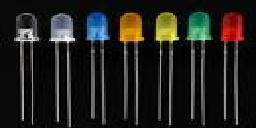LED: (8, 10, 44, 128), (216, 8, 248, 128), (183, 11, 213, 128), (47, 13, 77, 128), (118, 10, 145, 128), (151, 10, 178, 126), (86, 11, 109, 125)
